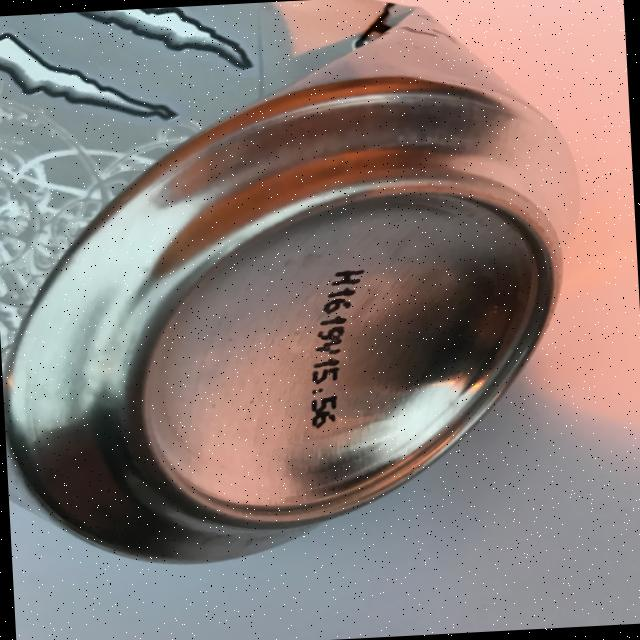metal: (0, 0, 599, 575)
